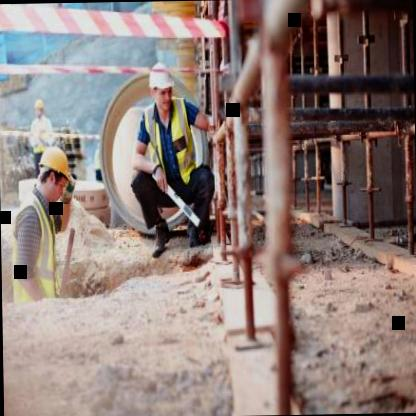helmet: (34, 144, 75, 209), (143, 62, 180, 117)
